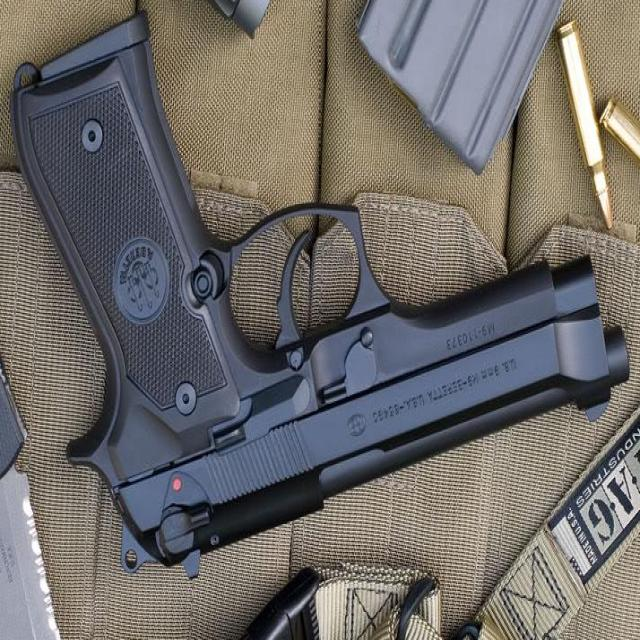Gun: (0, 38, 632, 582)
